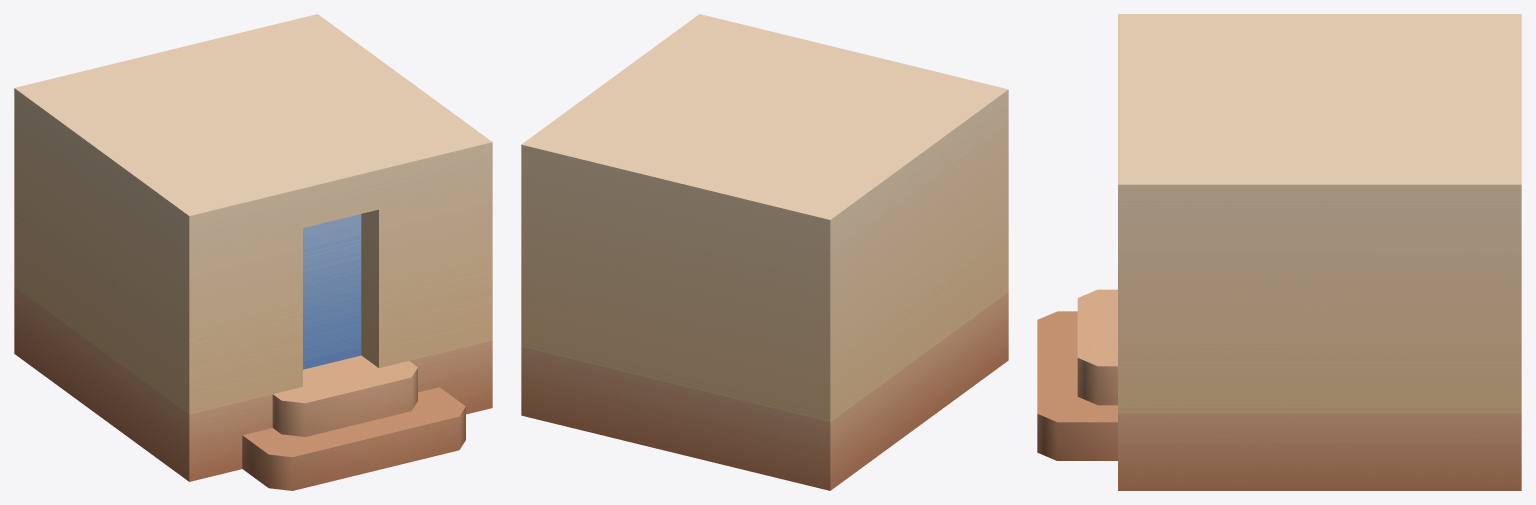
3 views of the same model, side by side, from view 1: azimuth 30°, elevation 25°; view 2: azimuth 150°, elevation 25°; view 3: azimuth 270°, elevation 25° (orthographic). The views are drawn at different scales.
Parts seen in each view (by area): view 1: building-steps-wide; view 2: building-steps-wide; view 3: building-steps-wide.
Part boxes in pixels (x1,y1,x2,y2): building-steps-wide: (14,14,492,490); building-steps-wide: (521,14,1008,490); building-steps-wide: (1037,14,1521,490).
Bounding box in the file's own units: 1 × 0.8375 × 1.2.
1 material, 1 textured.
